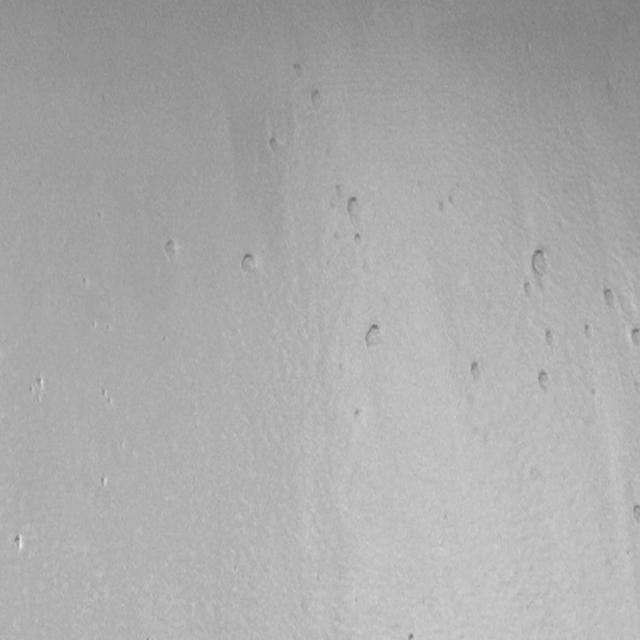pin holes: (529, 244, 553, 278), (361, 320, 386, 352), (598, 285, 622, 315), (344, 194, 367, 225), (162, 236, 182, 266), (238, 250, 261, 276), (32, 374, 52, 399), (466, 358, 485, 384), (536, 369, 554, 393), (308, 88, 327, 110), (542, 326, 560, 349), (351, 405, 370, 426), (519, 280, 537, 302), (266, 133, 283, 154), (12, 534, 27, 554), (291, 61, 307, 79), (582, 322, 596, 342), (629, 324, 640, 347), (98, 472, 111, 491), (351, 230, 364, 249), (630, 502, 639, 524), (333, 182, 342, 202), (438, 196, 445, 218), (405, 629, 420, 639), (448, 196, 458, 208)
